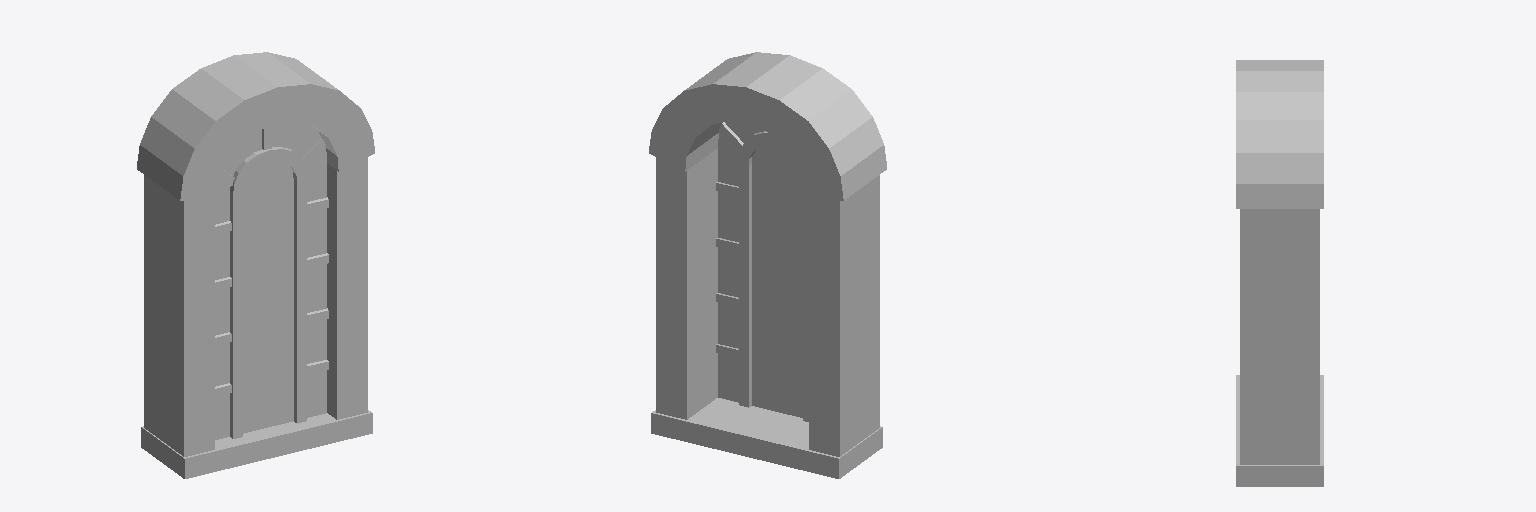
The model's file is Window_Thin_Round1.obj.
The picture shows the model from 3 angles: view 1: azimuth 30°, elevation 25°; view 2: azimuth 150°, elevation 25°; view 3: azimuth 270°, elevation 25°; orthographic projection.
Visible parts, largest first — view 1: Window_Thin_Round1; view 2: Window_Thin_Round1; view 3: Window_Thin_Round1.
Part boxes in pixels (x1,y1,x2,y2): Window_Thin_Round1: (137, 52, 374, 478); Window_Thin_Round1: (649, 52, 886, 478); Window_Thin_Round1: (1236, 60, 1323, 486).
Size of the model in its own units: 0.8876 by 1.6 by 0.3444.